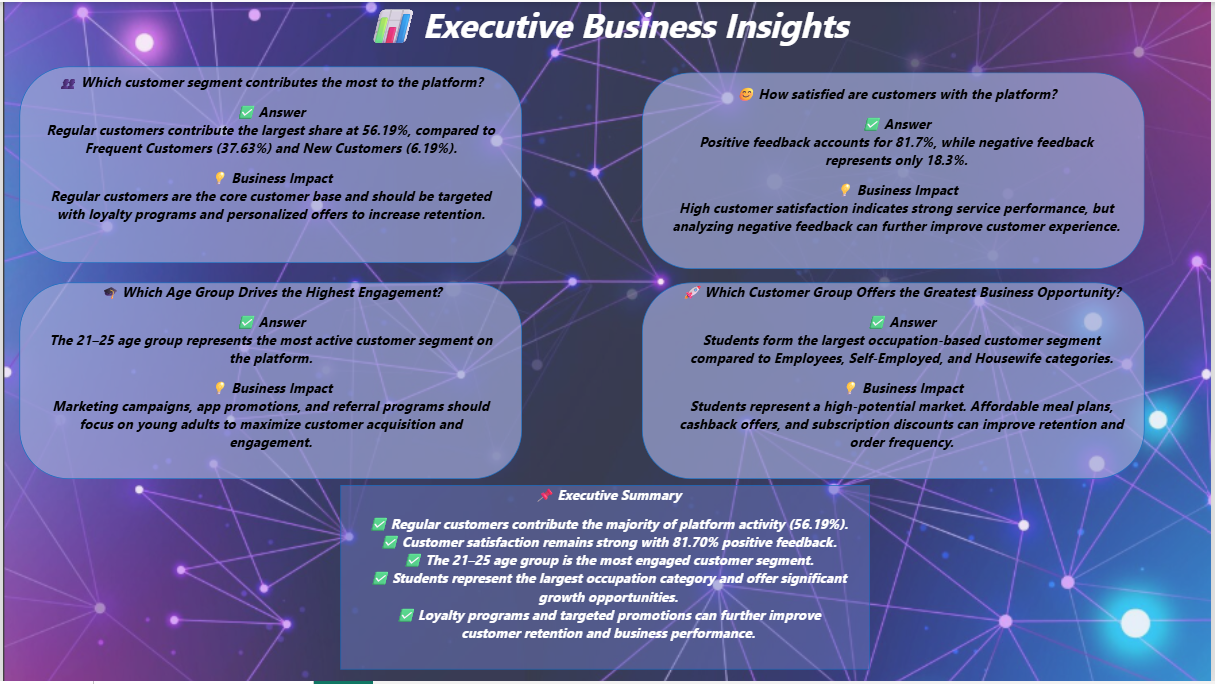

What the dashboard file says about the page in this screenshot:
{"tool":"powerbi","page":{"name":"Executive Summary","canvas":[1920,1080],"ordinal":1},"visuals":[{"type":"textbox","box":[26.2,0,1870.6,78.7],"z":0},{"type":"shape","box":[26.2,102.6,799.3,312.6],"z":1},{"type":"shape","box":[26.2,446.2,799.3,312.6],"z":2},{"type":"shape","box":[1016.4,446.2,799.3,312.6],"z":3},{"type":"shape","box":[1016.4,112.1,799.3,312.6],"z":4},{"type":"textbox","box":[57.3,112.1,737.2,281.5],"z":5},{"type":"textbox","box":[57.3,446.2,737.2,312.6],"z":6},{"type":"textbox","box":[1064.1,131.2,713.4,283.9],"z":7},{"type":"textbox","box":[1064.1,446.2,730.1,312.6],"z":8},{"type":"shape","box":[536.8,768.3,842.2,293.5],"z":9},{"type":"textbox","box":[579.8,768.3,765.9,293.5],"z":10}]}

Visuals, with their boxes in screenshot pixels (x1, y1, x2, y2), scaled from the page's 1920x1080 canvas onto the 1215x684 screenshot:
textbox: x1=17 y1=0 x2=1200 y2=50
shape: x1=17 y1=65 x2=522 y2=263
shape: x1=17 y1=283 x2=522 y2=481
shape: x1=643 y1=283 x2=1149 y2=481
shape: x1=643 y1=71 x2=1149 y2=269
textbox: x1=36 y1=71 x2=503 y2=249
textbox: x1=36 y1=283 x2=503 y2=481
textbox: x1=673 y1=83 x2=1125 y2=263
textbox: x1=673 y1=283 x2=1135 y2=481
shape: x1=340 y1=487 x2=873 y2=672
textbox: x1=367 y1=487 x2=852 y2=672
